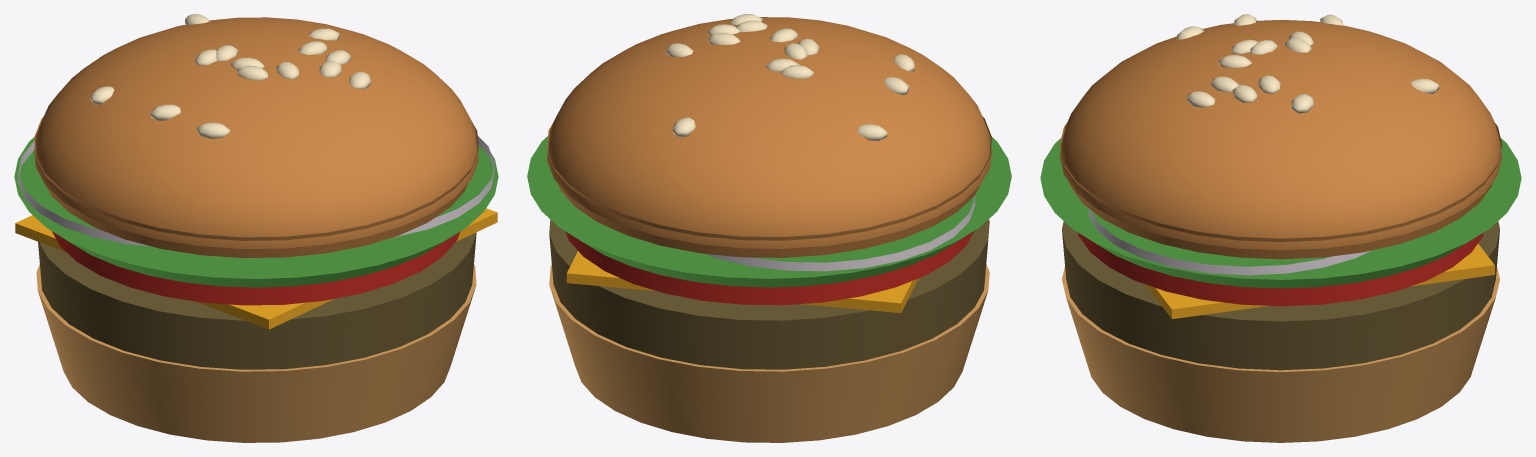
Rendered from burger-veggie.glb.
3 renders of one model, left to right at view 1: azimuth 30°, elevation 25°; view 2: azimuth 150°, elevation 25°; view 3: azimuth 270°, elevation 25°, orthographic.
Size of the model in its own units: 0.1573 by 0.112 by 0.1573.
